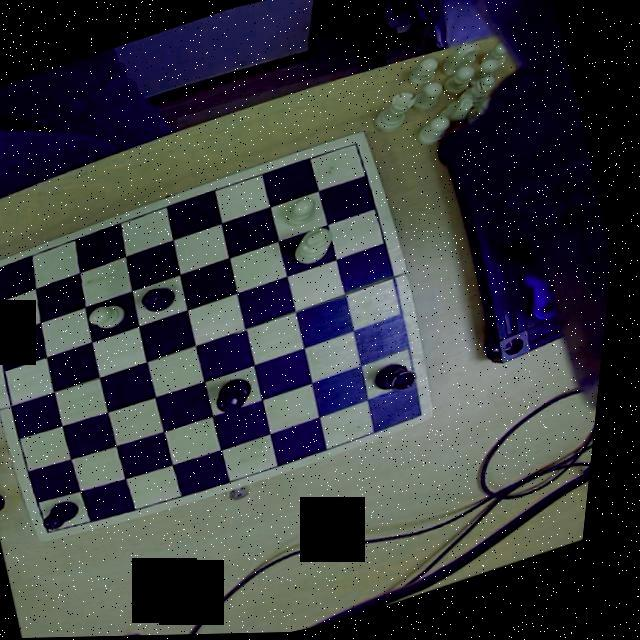chess-table-corners: (409, 398, 442, 428), (344, 133, 374, 161), (44, 516, 72, 540), (0, 257, 16, 282)
